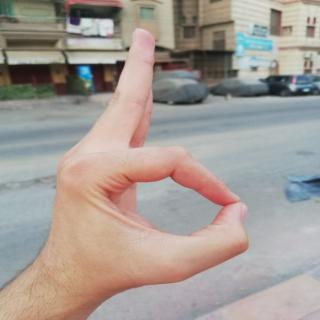Space: (50, 23, 263, 292)
